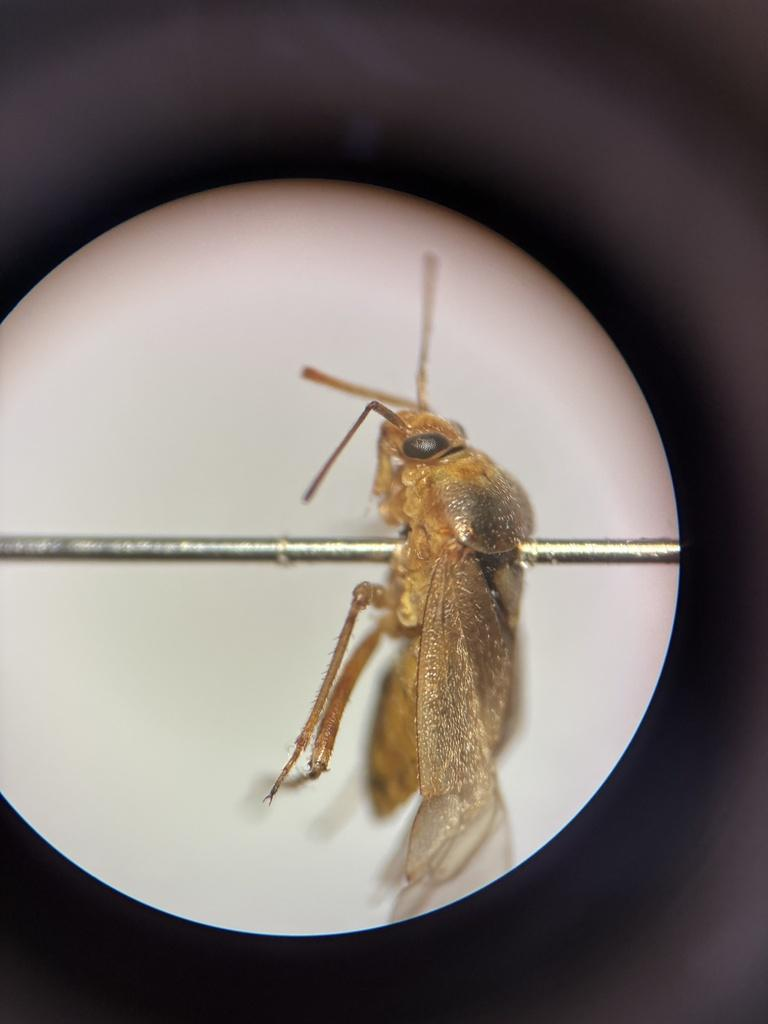plant_bugs: (167, 196, 616, 925)
